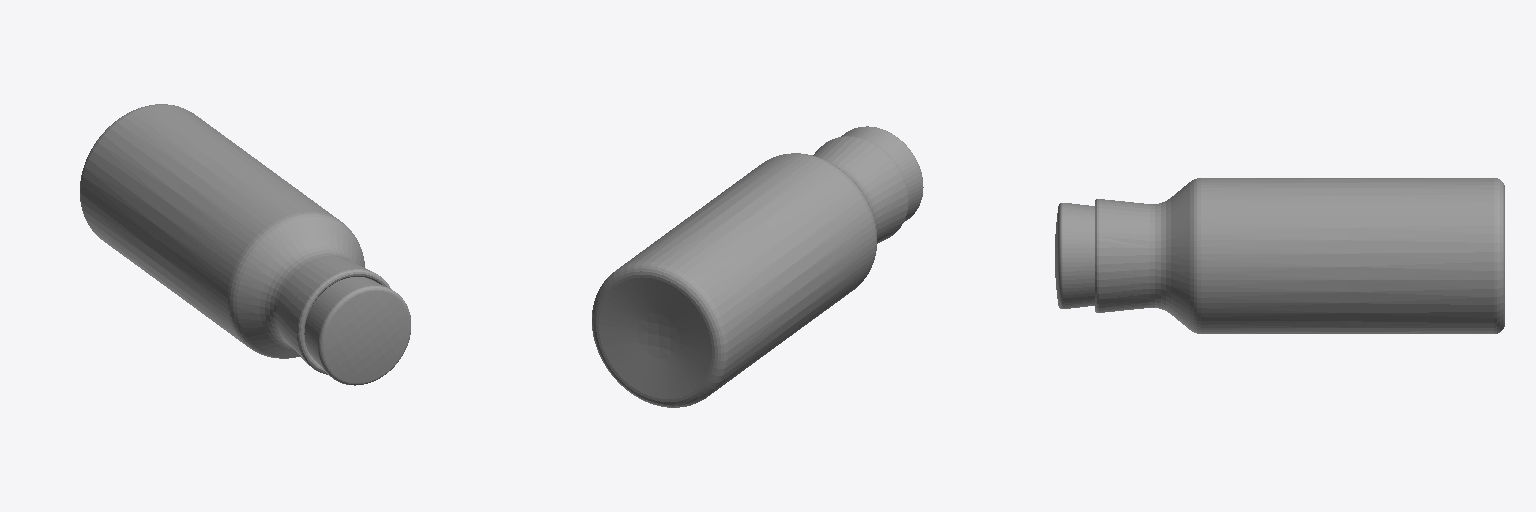
The model's file is bottle.obj.
3 renders of one model, left to right at view 1: azimuth 30°, elevation 25°; view 2: azimuth 150°, elevation 25°; view 3: azimuth 270°, elevation 25°, orthographic.
Parts seen in each view (by area): view 1: mesh_1_Buz-1; view 2: mesh_1_Buz-1; view 3: mesh_1_Buz-1.
Part boxes in pixels (x1,y1,x2,y2): mesh_1_Buz-1: (80, 104, 410, 385); mesh_1_Buz-1: (592, 126, 923, 407); mesh_1_Buz-1: (1055, 178, 1504, 333).
Bounding box in the file's own units: 0.142 × 0.142 × 0.409.